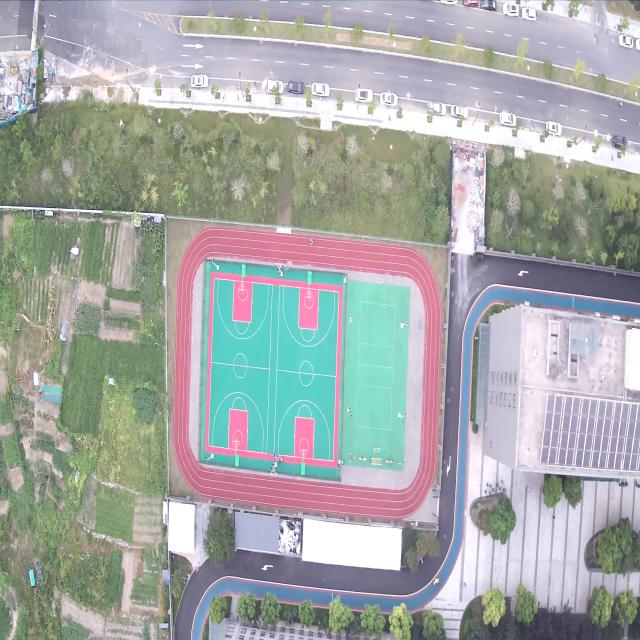drone: (140, 275, 146, 285)
